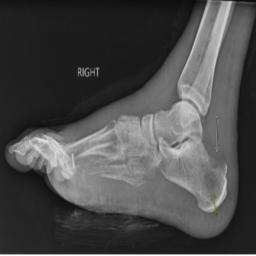cancer: (204, 155, 223, 200)
